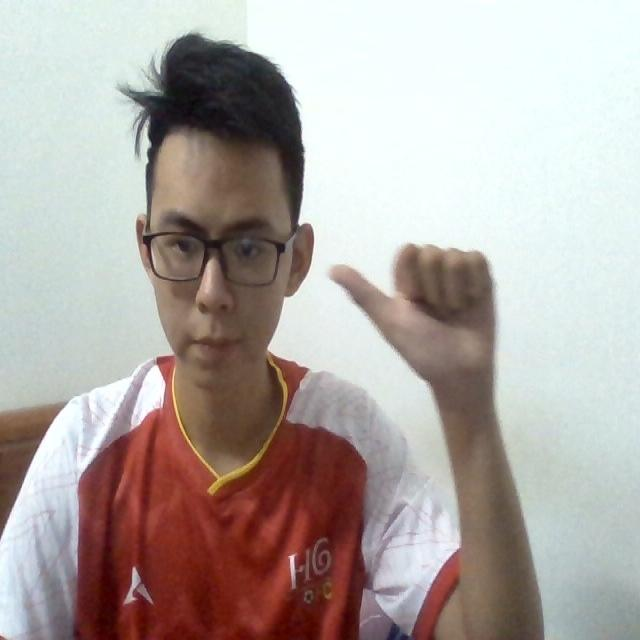A: (323, 236, 499, 389)
